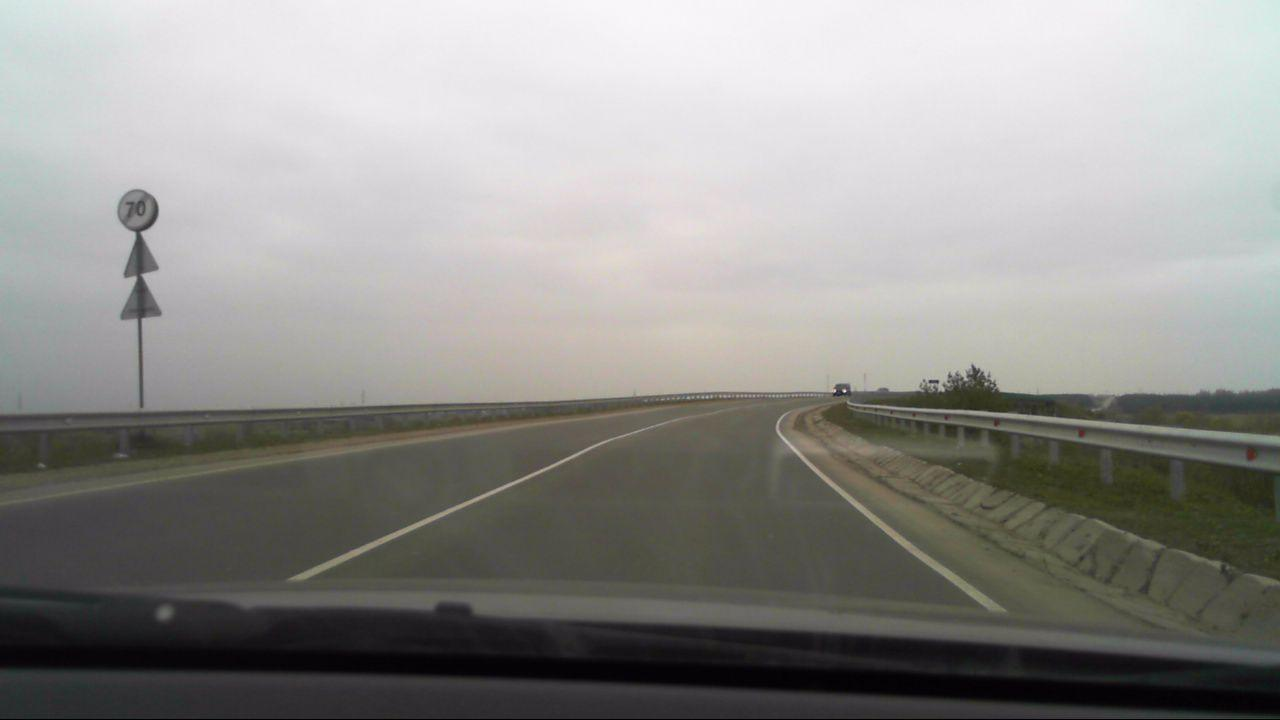3_25: (116, 190, 156, 235)
